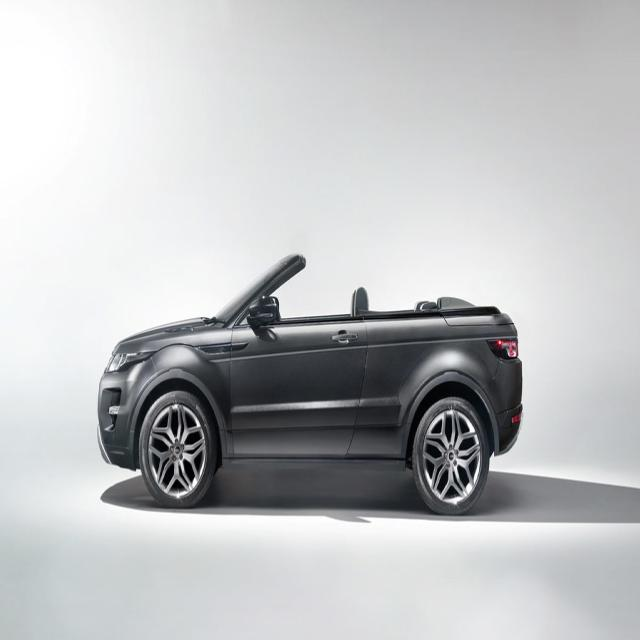car: (96, 243, 523, 507)
